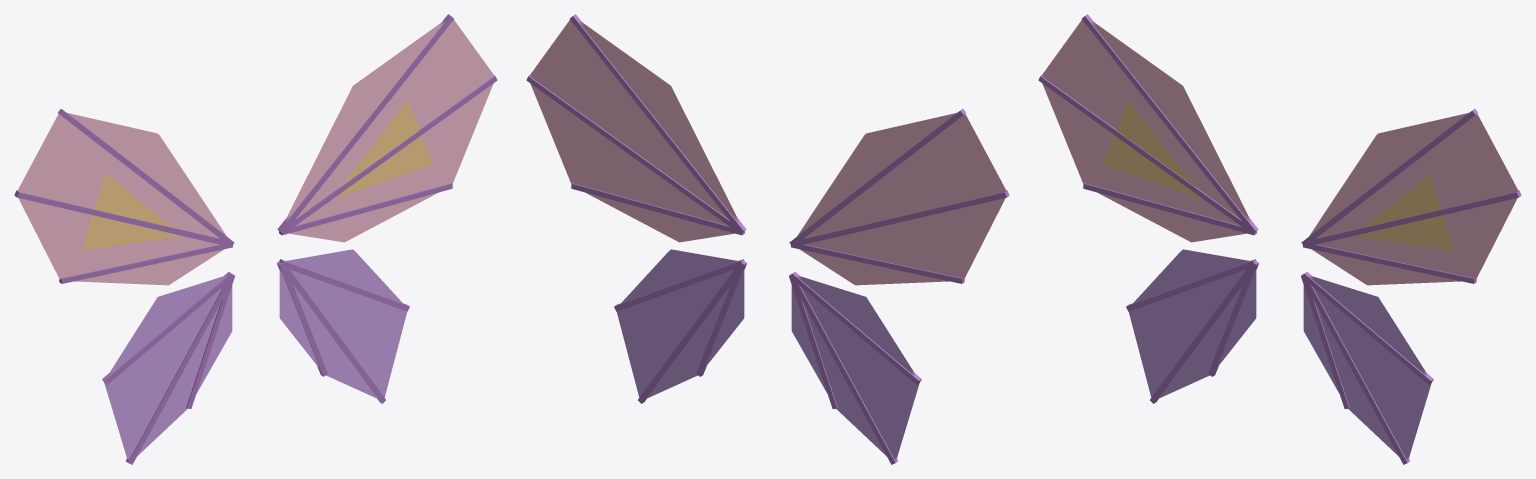
The model's file is asas_borboleta.glb.
The picture shows the model from 3 angles, left to right: view 1: azimuth 30°, elevation 25°; view 2: azimuth 150°, elevation 25°; view 3: azimuth 330°, elevation 25°; orthographic projection.
Parts seen in each view (by area): view 1: asas_borboleta; view 2: asas_borboleta; view 3: asas_borboleta.
Part boxes in pixels (box(x1,y1,x2,y2)): asas_borboleta: box(14, 14, 497, 464); asas_borboleta: box(526, 14, 1009, 464); asas_borboleta: box(1038, 14, 1521, 464).
Size of the model in its own units: 1.97 by 1.45 by 0.02.
